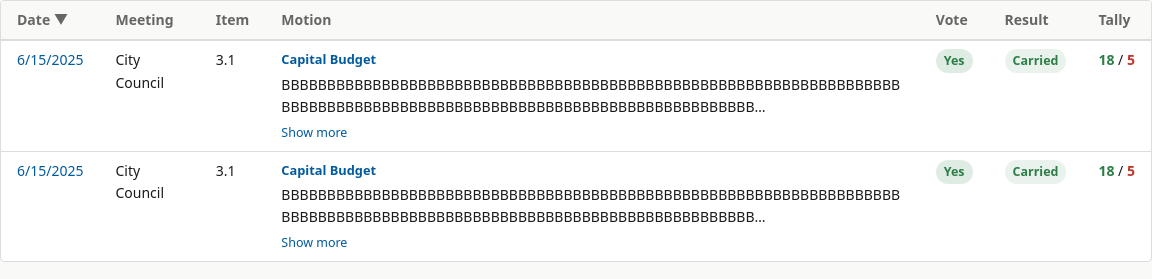
Scenario: VoteTable › expanding one row does not expand others
Click the 1st button "Show more".
click(314, 133)  # box [281, 123, 347, 143]
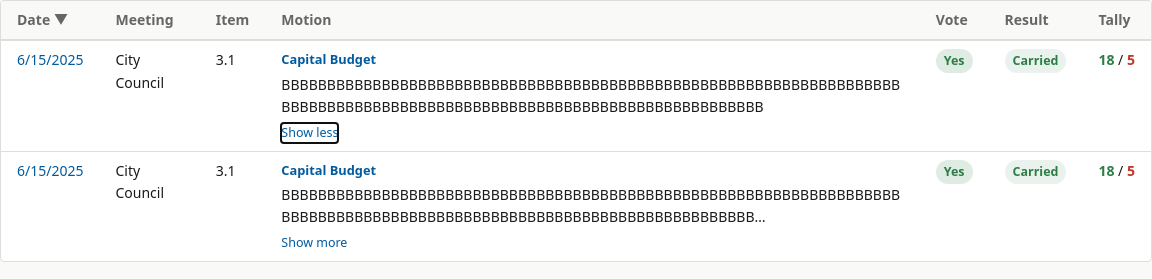
Expected: the button "Show more" is shown, [281, 233, 347, 253]
Expected: the button "Show less" is shown, [281, 123, 338, 143]
